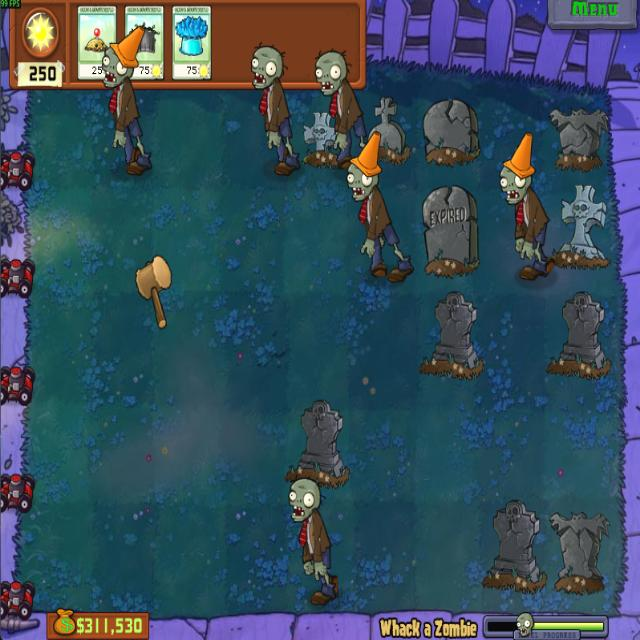conehead: (100, 25, 144, 89), (498, 131, 534, 206), (345, 131, 381, 202)
grave: (481, 498, 547, 594), (544, 291, 612, 378), (286, 398, 349, 488), (420, 292, 480, 382), (421, 185, 479, 278), (549, 512, 612, 594), (552, 184, 608, 272), (422, 96, 479, 166), (550, 103, 608, 170), (364, 96, 411, 165), (300, 110, 340, 166)
gravebuster: (125, 6, 164, 83)
zombie: (283, 479, 322, 524), (314, 48, 348, 96), (250, 45, 284, 88)
